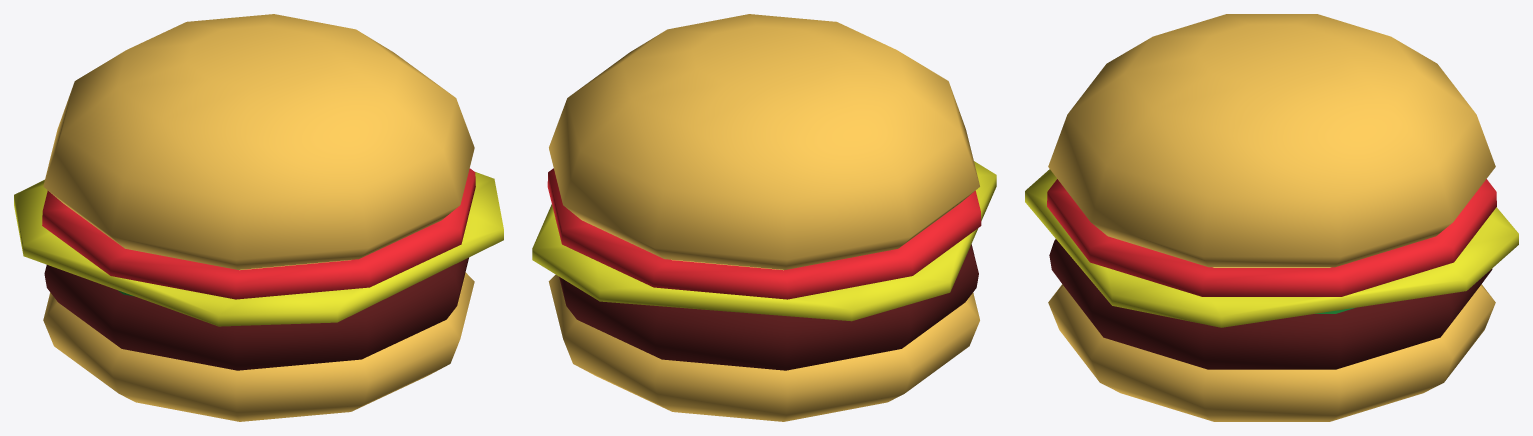
Rendered from Burger.fbx.
3 views of the same model, side by side, from view 1: azimuth 30°, elevation 25°; view 2: azimuth 150°, elevation 25°; view 3: azimuth 270°, elevation 25° (orthographic).
Parts seen in each view (by area): view 1: Pao, Carne, Queijo, Tomate; view 2: Pao, Carne, Tomate, Queijo; view 3: Pao, Carne, Tomate, Queijo.
Boxes of the visible parts, box(x1,y1,x2,y2) form: Pao: box(43, 14, 474, 421); Carne: box(44, 257, 468, 370); Queijo: box(14, 172, 503, 326); Tomate: box(42, 168, 475, 299); Pao: box(548, 14, 979, 421); Carne: box(559, 244, 978, 370); Tomate: box(547, 168, 981, 299); Queijo: box(532, 161, 996, 321); Pao: box(1048, 14, 1495, 421); Carne: box(1049, 239, 1492, 369); Tomate: box(1047, 179, 1496, 296); Queijo: box(1025, 169, 1518, 327).
Bounding box in the file's own units: 66.48 × 45.58 × 66.48.
